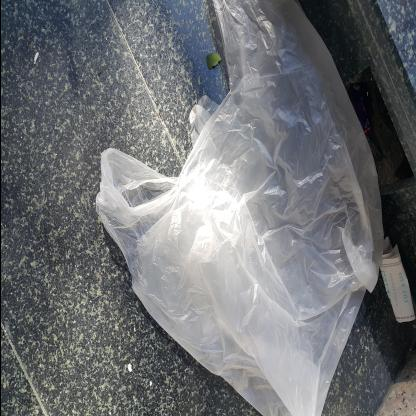plastik: (1, 93, 415, 383)
